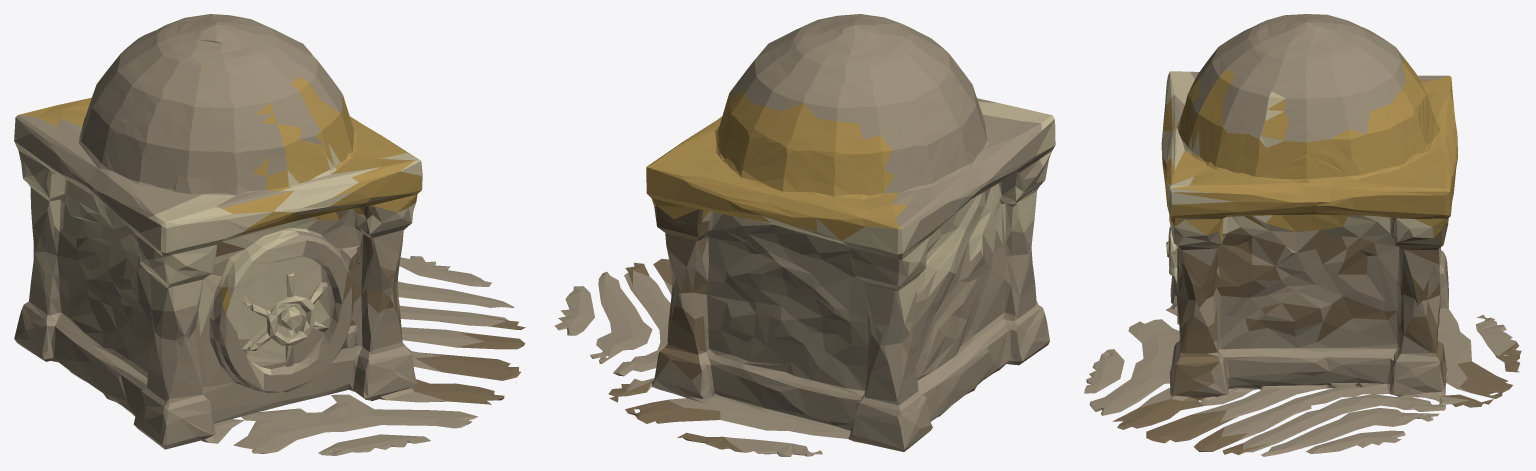
The model's file is vault.glb.
The picture shows the model from 3 angles, left to right: view 1: azimuth 30°, elevation 25°; view 2: azimuth 150°, elevation 25°; view 3: azimuth 270°, elevation 25°; orthographic projection. The views are drawn at different scales.
Visible parts, largest first — view 1: geometry_0; view 2: geometry_0; view 3: geometry_0.
Boxes of the visible parts, <box> form: geometry_0: <box>14,14,525,455</box>; geometry_0: <box>554,14,1055,456</box>; geometry_0: <box>1084,14,1521,456</box>.
Bounding box in the file's own units: 1.97 × 1.63 × 1.97.
